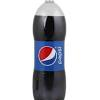Pepsi: (30, 2, 67, 100)
